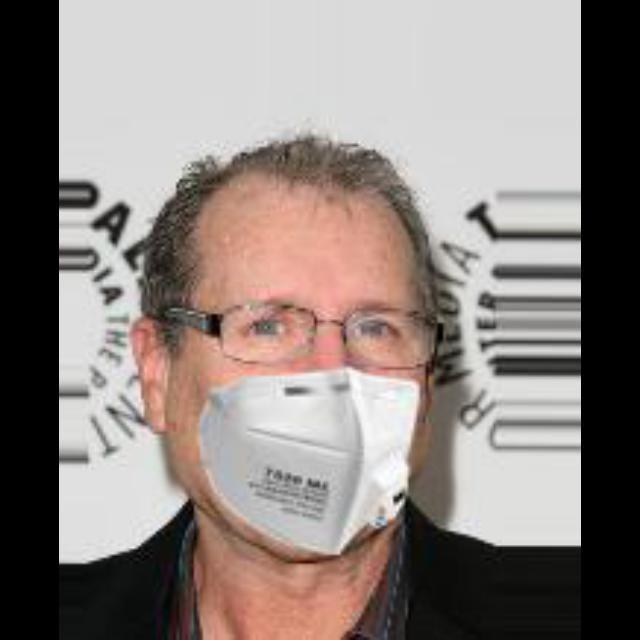suspicion: (166, 150, 434, 554)
